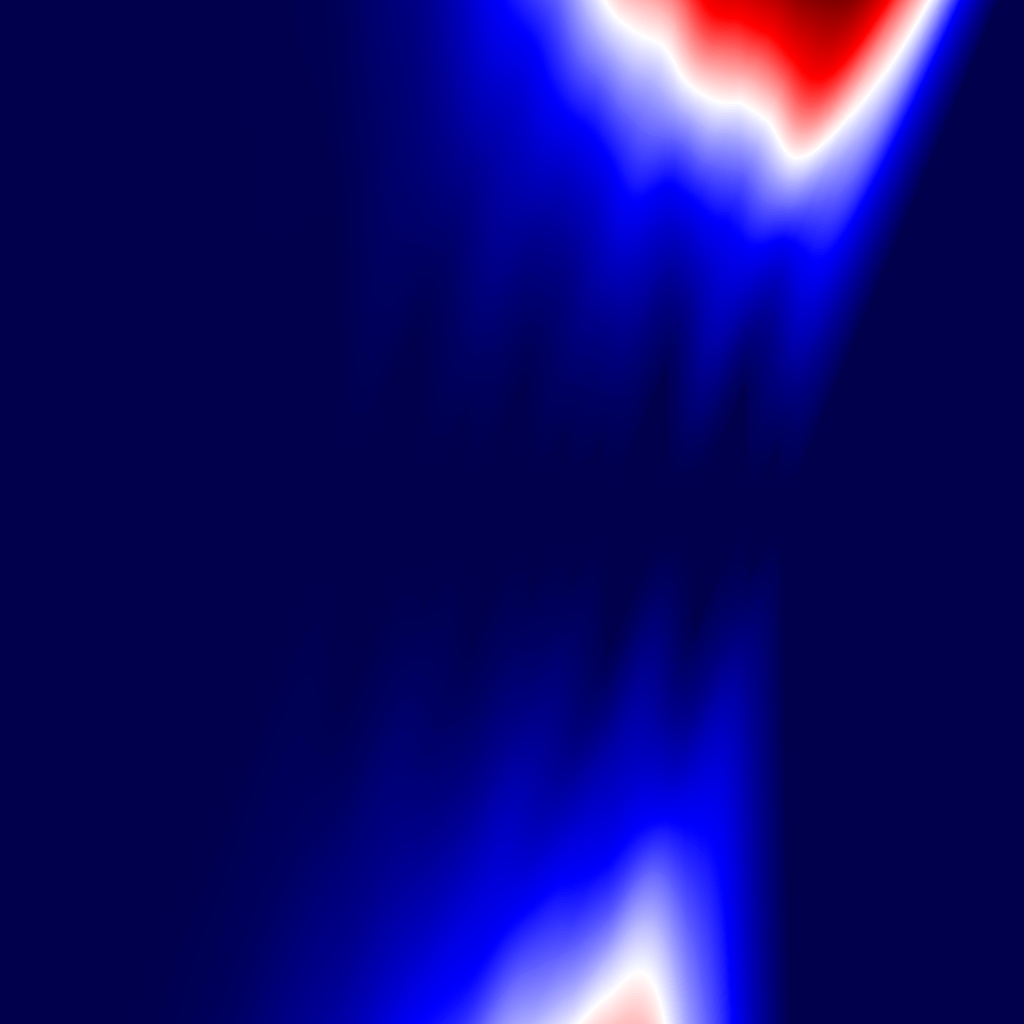diamond: (211, 210, 343, 814), (344, 328, 424, 696), (607, 361, 673, 663), (471, 373, 532, 651), (693, 378, 751, 646), (425, 407, 471, 617), (532, 423, 571, 601), (572, 433, 606, 591), (752, 439, 784, 585), (673, 467, 693, 557)
